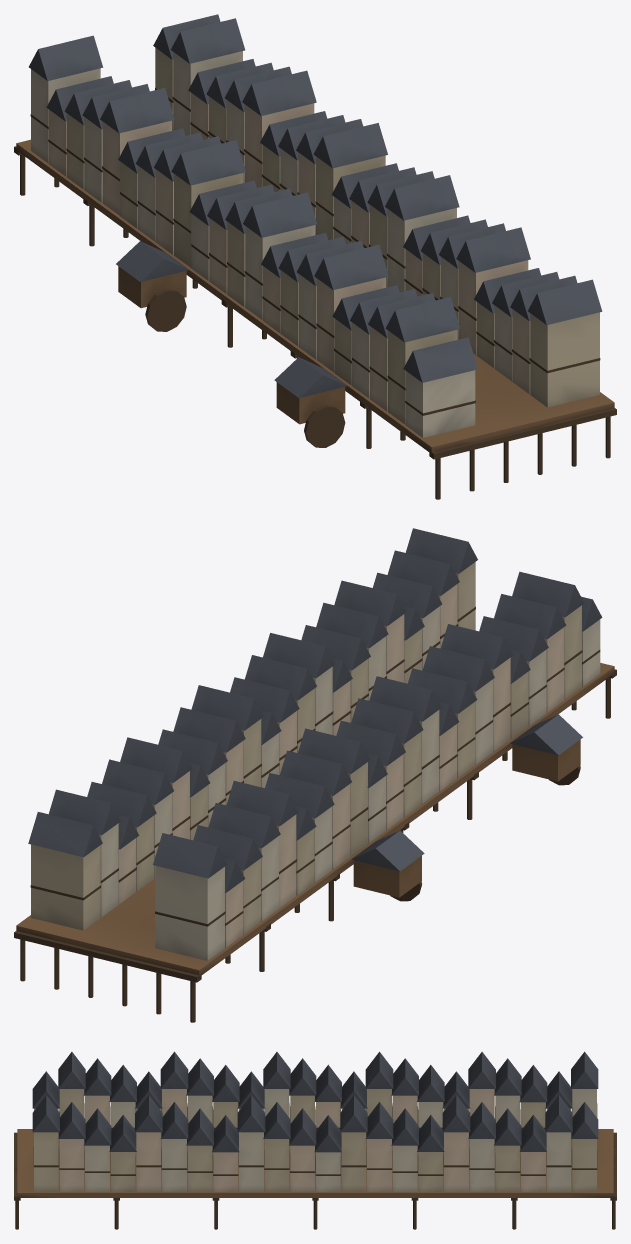
The model's file is pont-au-change.glb.
3 views of the same model, one above another, from view 1: azimuth 30°, elevation 25°; view 2: azimuth 150°, elevation 25°; view 3: azimuth 270°, elevation 25° (orthographic). The views are drawn at different scales.
Visible parts, largest first — view 1: p1_houses, p0_piers; view 2: p1_houses, p0_piers; view 3: p1_houses, p0_piers.
Part boxes in pixels (x1,y1,x2,y2): p1_houses: [29, 14, 602, 437]; p0_piers: [14, 139, 616, 499]; p1_houses: [28, 528, 602, 960]; p0_piers: [14, 663, 616, 1022]; p1_houses: [32, 1051, 598, 1191]; p0_piers: [14, 1106, 616, 1229].
Size of the model in its own units: 35.75 by 23.63 by 111.
